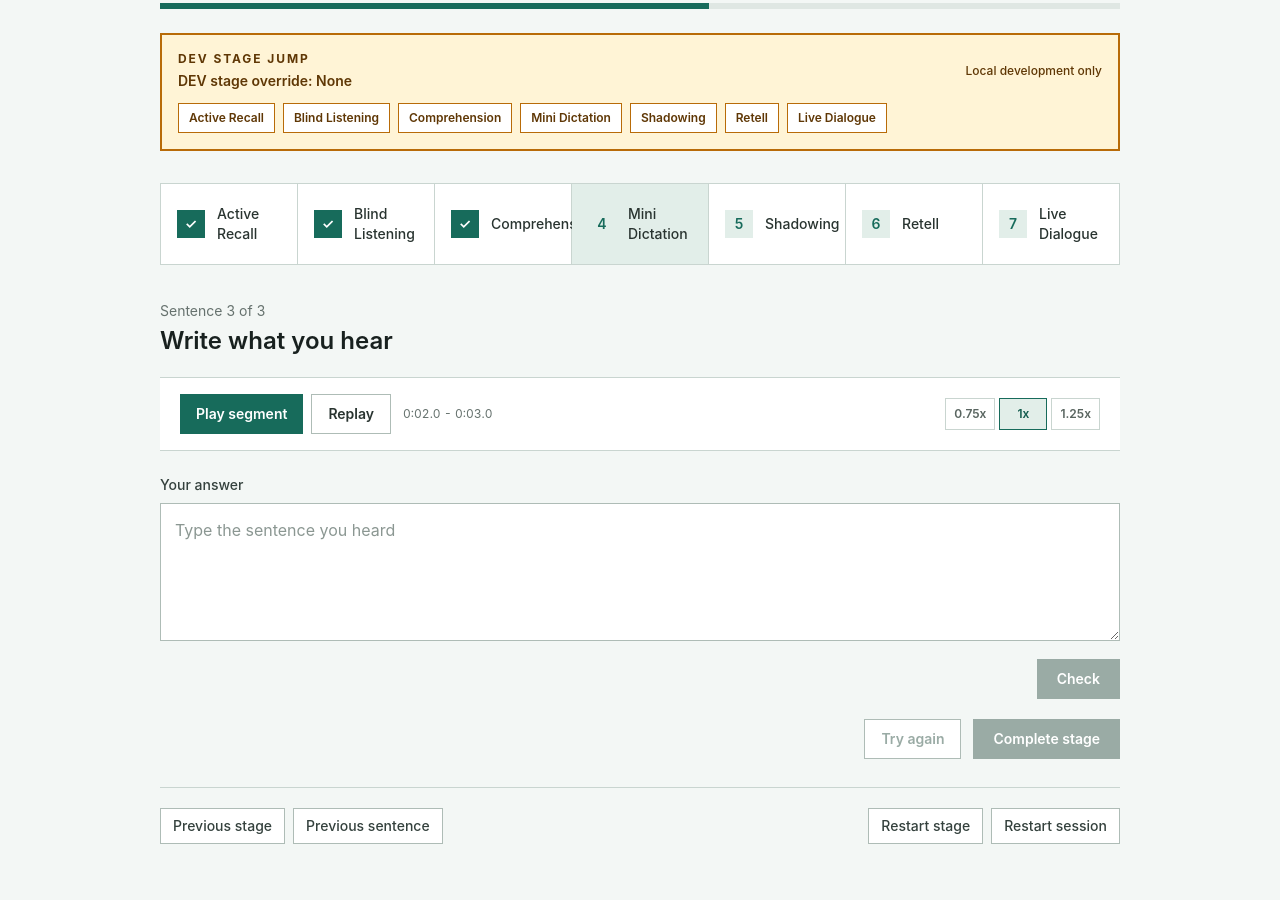
Test: LessonGenerator personal session restore › persists restart session at Active Recall without changing stage order
(page scrolled)
Click the button "Restart session": (1056, 826) [991,808,1120,844]
(page scrolled)
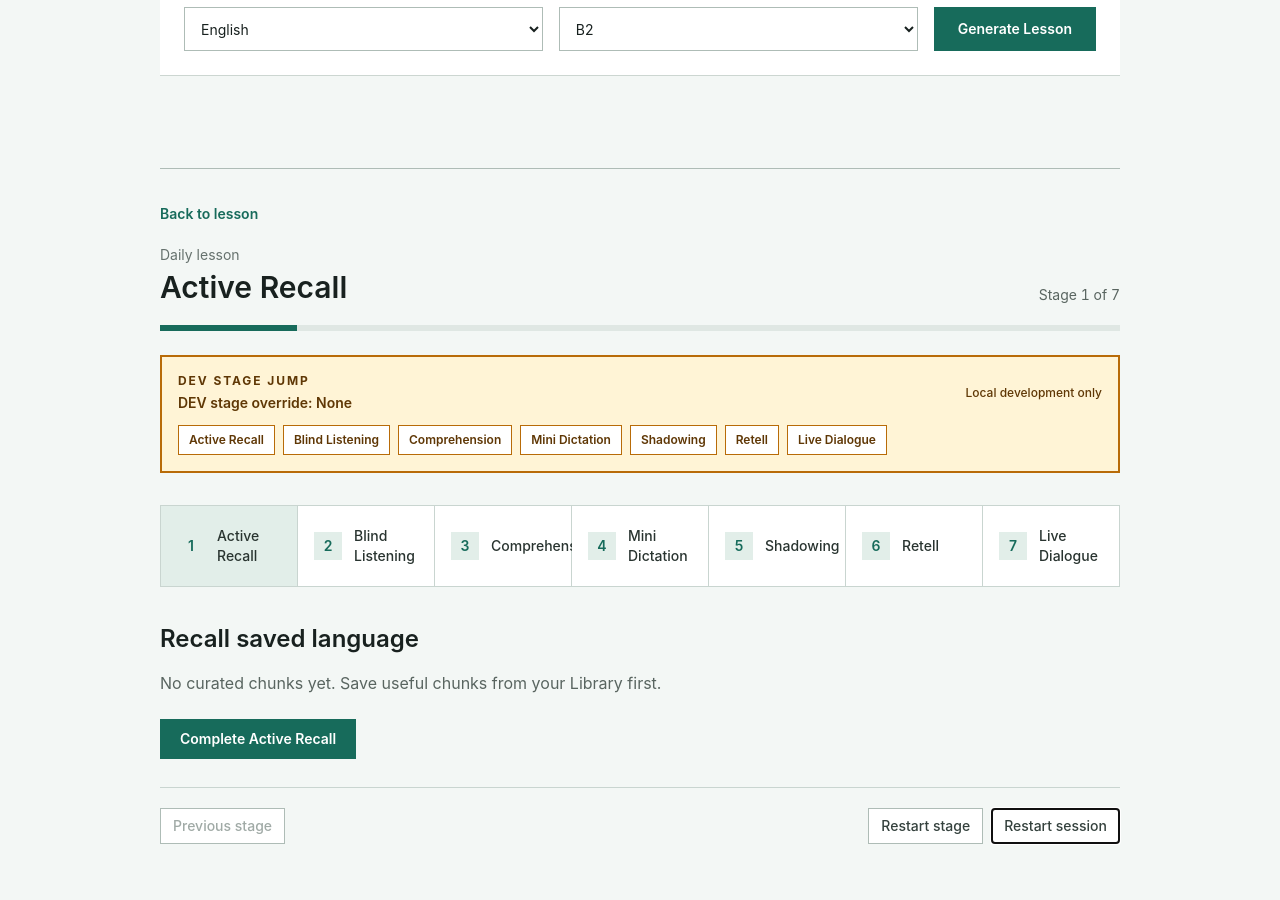
Check: the heading "Active Recall" is shown, box [160,269,347,305]
